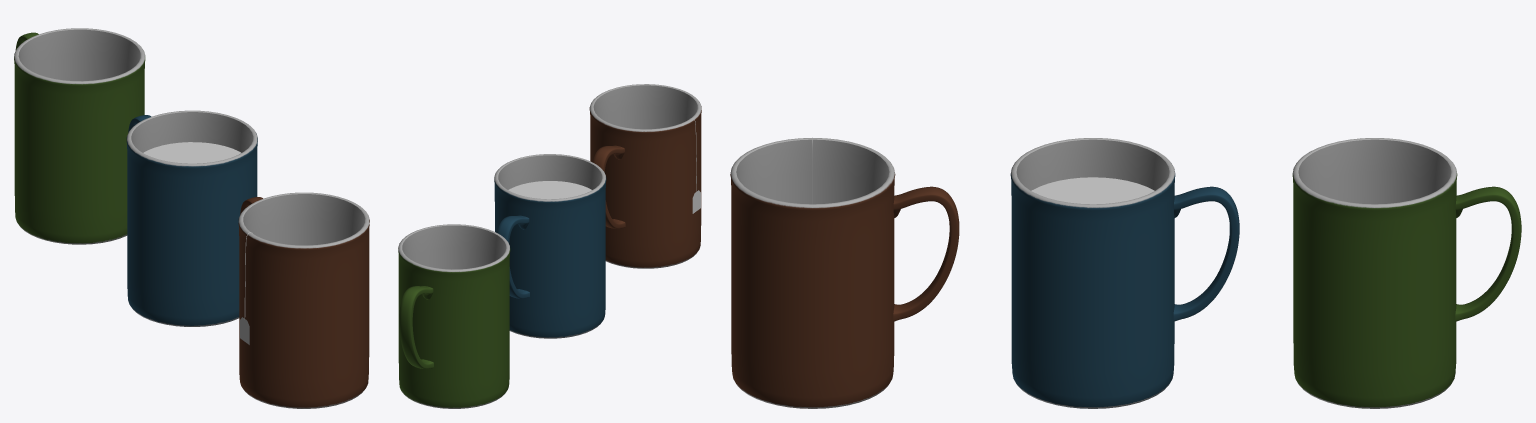
3 views of the same model, side by side, from view 1: azimuth 30°, elevation 25°; view 2: azimuth 150°, elevation 25°; view 3: azimuth 270°, elevation 25° (orthographic). The views are drawn at different scales.
Parts seen in each view (by area): view 1: Cups; view 2: Cups; view 3: Cups.
Boxes of the visible parts, x1=… form: Cups: x1=14, y1=28, x2=369, y2=408; Cups: x1=398, y1=84, x2=701, y2=408; Cups: x1=730, y1=137, x2=1521, y2=408.
Bounding box in the file's own units: 0.2386 × 0.5303 × 1.12.
